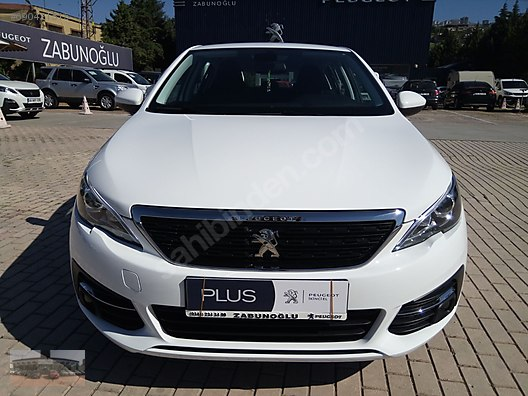peugeot: (68, 38, 470, 367)
